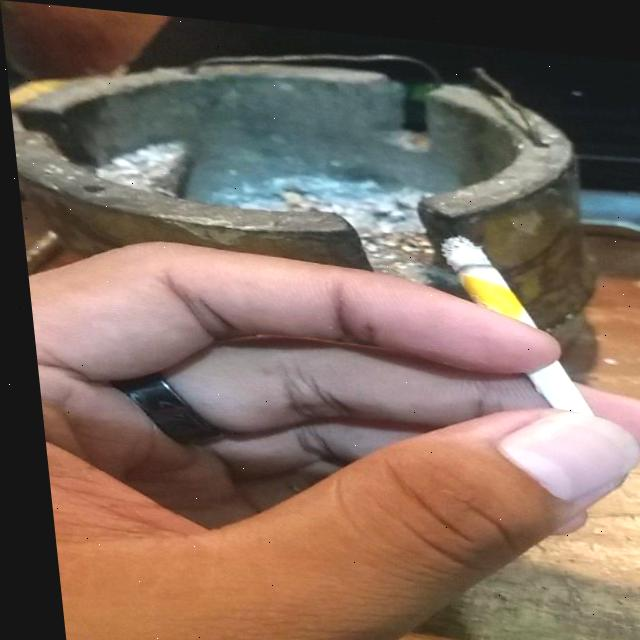cigarette: (436, 223, 583, 402)
